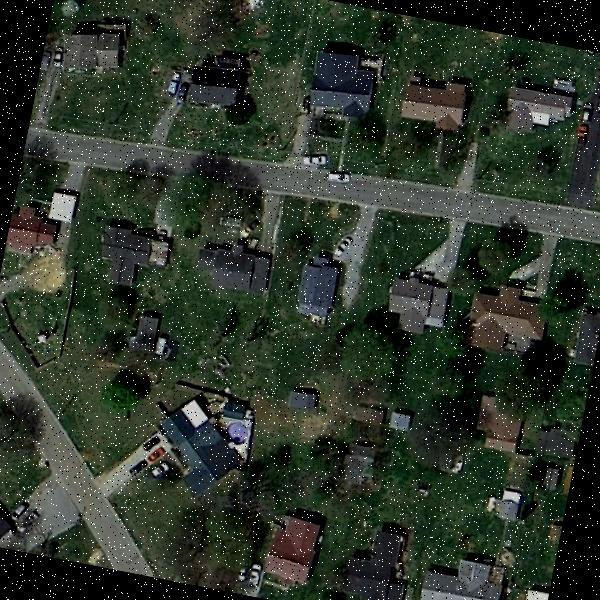Buildings: (150, 397, 230, 482), (305, 46, 377, 118), (52, 23, 126, 92), (187, 244, 275, 302), (344, 534, 420, 600), (5, 186, 73, 258), (184, 44, 254, 113), (401, 71, 474, 136), (291, 245, 341, 327), (502, 80, 575, 136), (417, 553, 501, 600), (258, 514, 310, 588), (464, 294, 538, 346), (467, 399, 528, 458), (98, 226, 160, 282), (388, 276, 446, 326)
